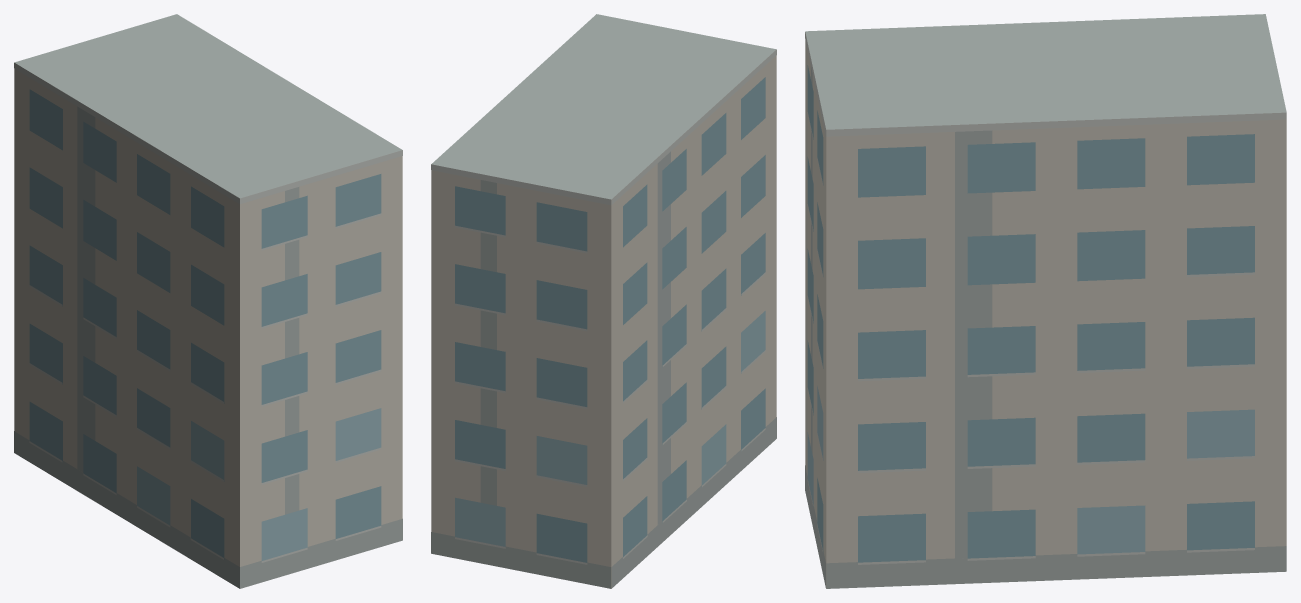
Rendered from survey-upis-32843652.glb.
The picture shows the model from 3 angles, left to right: view 1: azimuth 30°, elevation 25°; view 2: azimuth 150°, elevation 25°; view 3: azimuth 270°, elevation 25°; orthographic projection. The views are drawn at different scales.
Visible parts, largest first — view 1: survey-upis-32843652.tmp; view 2: survey-upis-32843652.tmp; view 3: survey-upis-32843652.tmp.
Boxes of the visible parts, x1,y1,x2,y2 form: survey-upis-32843652.tmp: (14, 14, 402, 588); survey-upis-32843652.tmp: (431, 14, 776, 588); survey-upis-32843652.tmp: (805, 14, 1286, 588).
Bounding box in the file's own units: 8.8 × 16.25 × 15.46.
